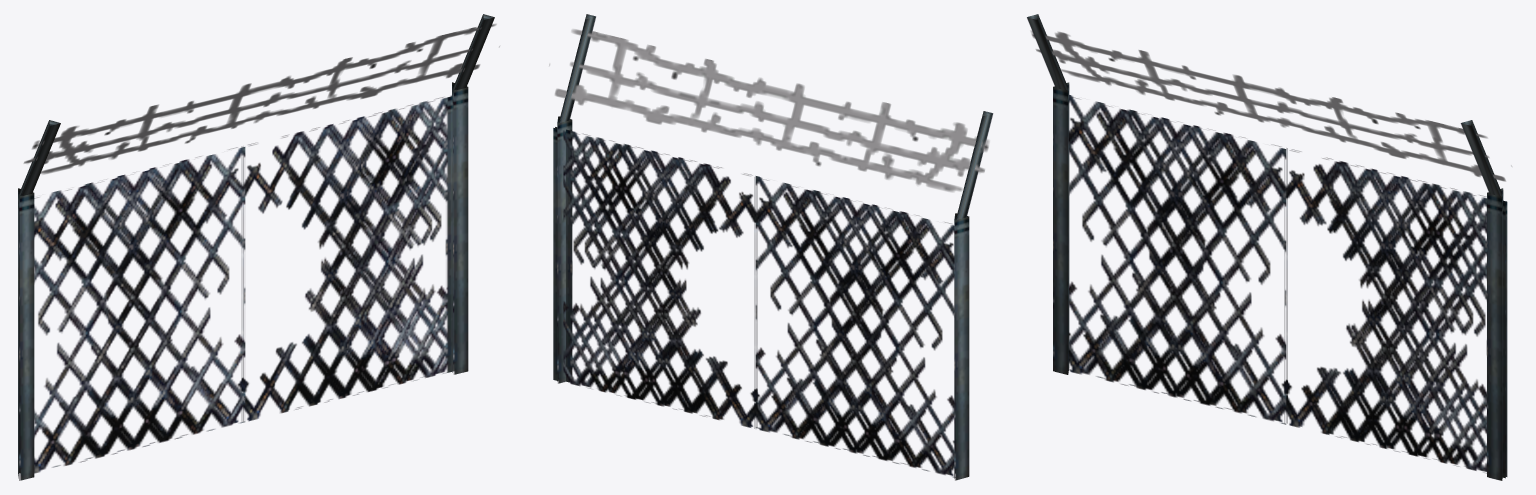
File: Environment - Prop - Chain Link Fence 01 - Damaged - PMWallChn5_D.glb
3 renders of one model, left to right at view 1: azimuth 30°, elevation 25°; view 2: azimuth 150°, elevation 25°; view 3: azimuth 330°, elevation 25°, orthographic. The views are drawn at different scales.
Visible parts, largest first — view 1: PMWALLCHN5_D; view 2: PMWALLCHN5_D; view 3: PMWALLCHN5_D.
Boxes of the visible parts, box(x1,y1,x2,y2) form: PMWALLCHN5_D: box(18, 14, 499, 480); PMWALLCHN5_D: box(549, 14, 993, 480); PMWALLCHN5_D: box(1027, 14, 1511, 480).
Bounding box in the file's own units: 30.06 × 22.65 × 4.11.
2 materials, 2 textured.
